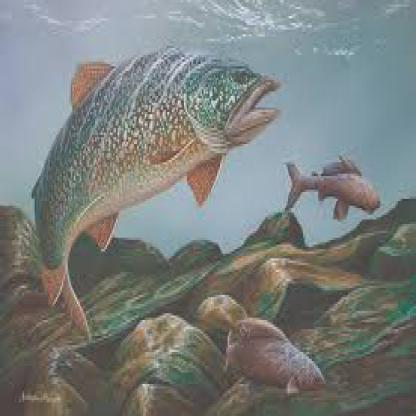fish: (28, 38, 272, 335)
